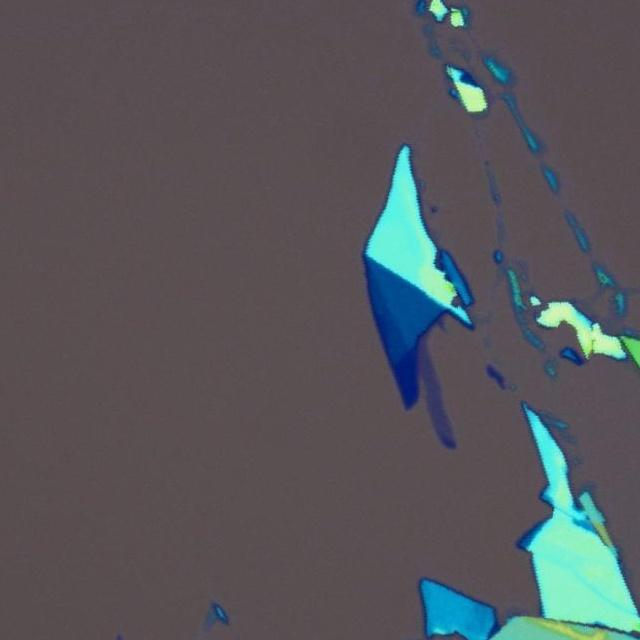monolayer-eWW4: (416, 332, 454, 442)
